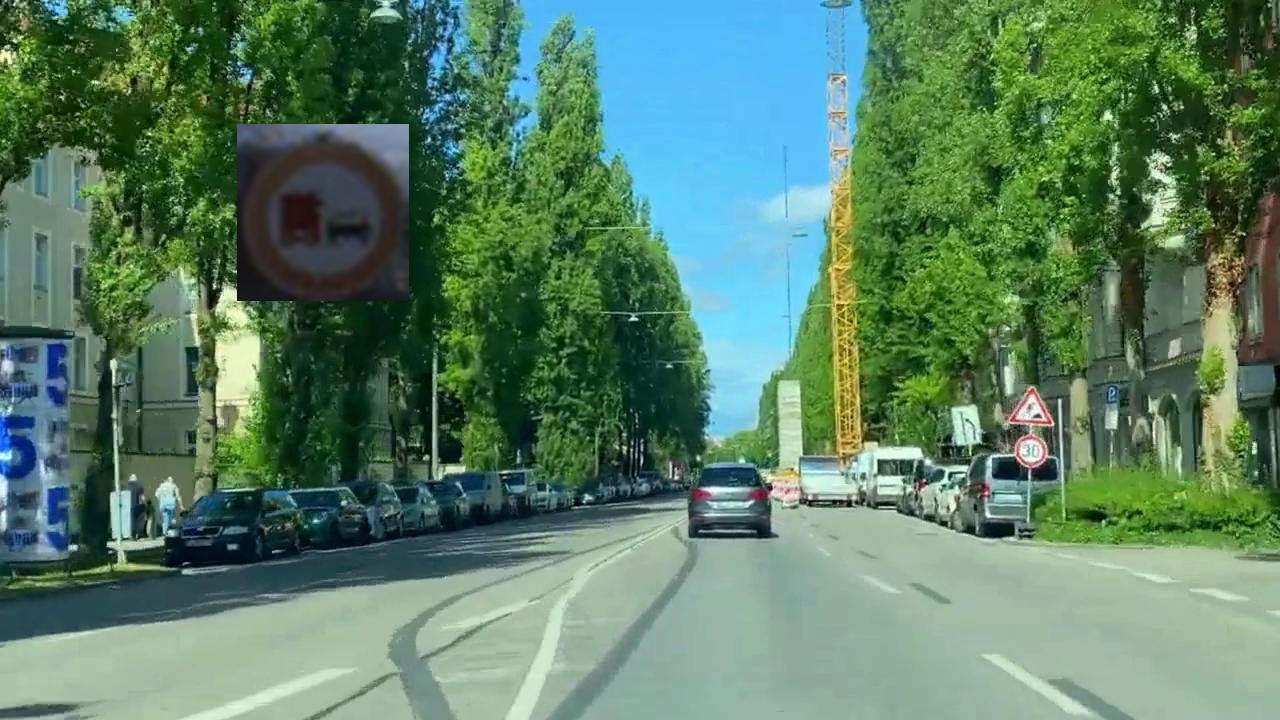No pass >3.5t: (237, 124, 409, 301)
